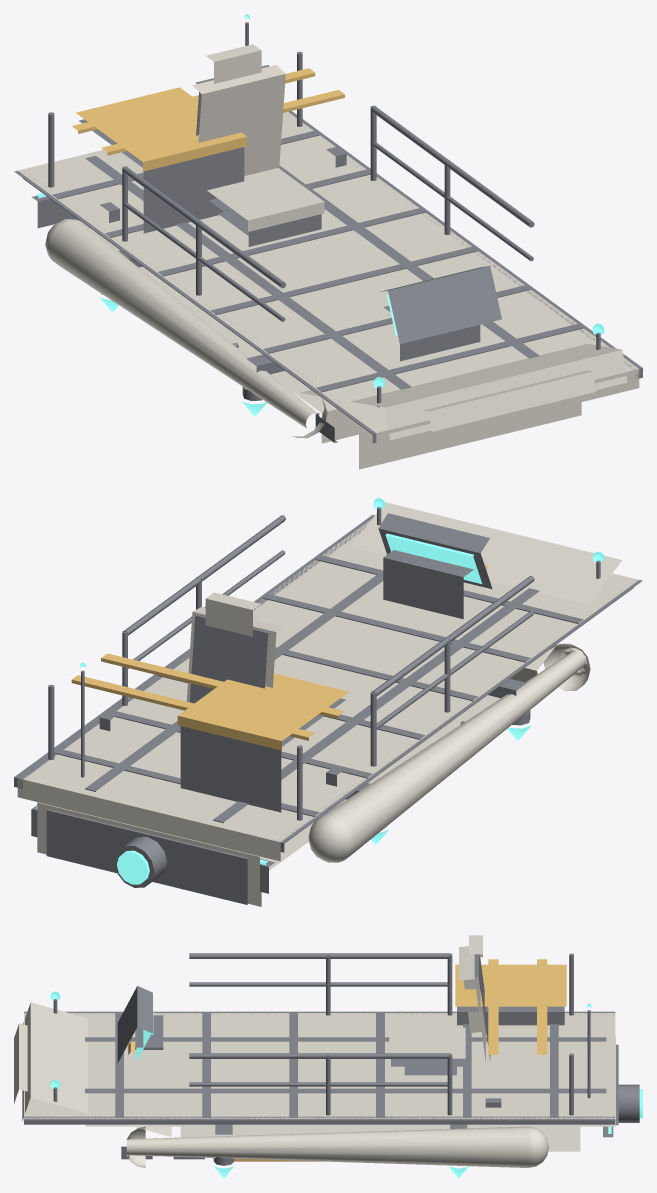
The model's file is SM_Vehicle_DawnSkiff.glb.
3 views of the same model, one above another, from view 1: azimuth 30°, elevation 25°; view 2: azimuth 150°, elevation 25°; view 3: azimuth 270°, elevation 25° (orthographic). The views are drawn at different scales.
Visible parts, largest first — view 1: SM_Vehicle_DawnSkiff; view 2: SM_Vehicle_DawnSkiff; view 3: SM_Vehicle_DawnSkiff.
Part boxes in pixels (left/top/right/bottom): SM_Vehicle_DawnSkiff: left=14, top=14, right=642, bottom=469; SM_Vehicle_DawnSkiff: left=14, top=498, right=642, bottom=906; SM_Vehicle_DawnSkiff: left=14, top=935, right=642, bottom=1178.
Bounding box in the file's own units: 1.68 × 1.24 × 3.62.
